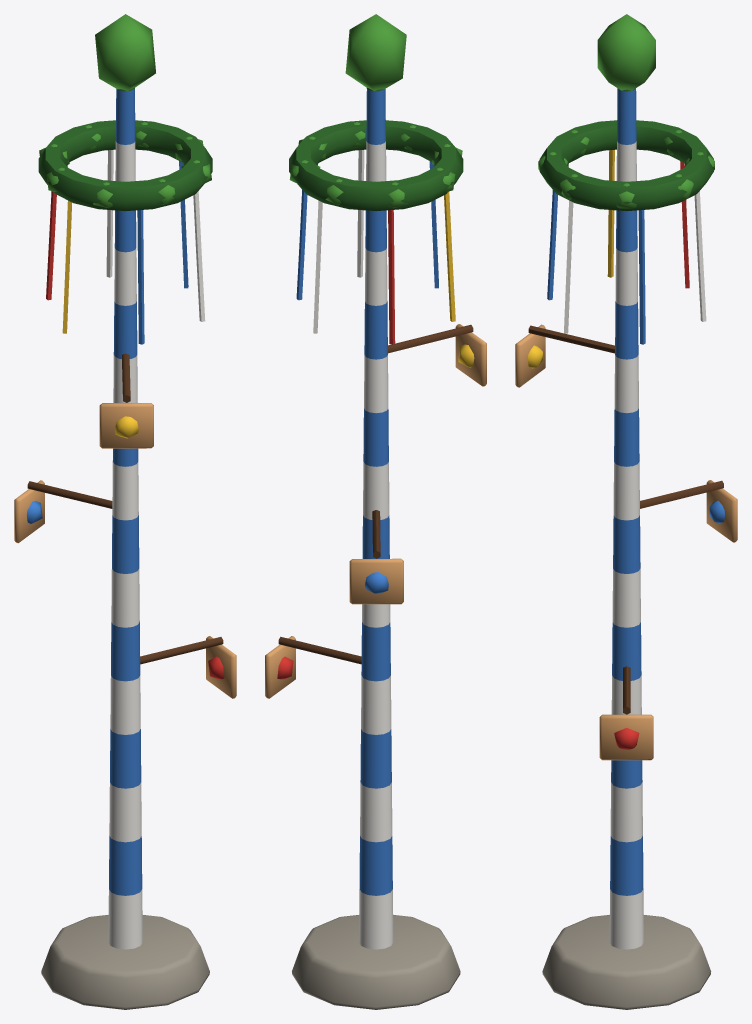
The model's file is maibaum.glb.
3 renders of one model, left to right at view 1: azimuth 30°, elevation 25°; view 2: azimuth 150°, elevation 25°; view 3: azimuth 270°, elevation 25°, orthographic.
Visible parts, largest first — view 1: Maibaum; view 2: Maibaum; view 3: Maibaum.
Part boxes in pixels (x1,y1,x2,y2): Maibaum: (14,14,236,1009); Maibaum: (265,14,486,1009); Maibaum: (515,14,737,1009).
Size of the model in its own units: 0.8663 by 4.32 by 0.9062.
